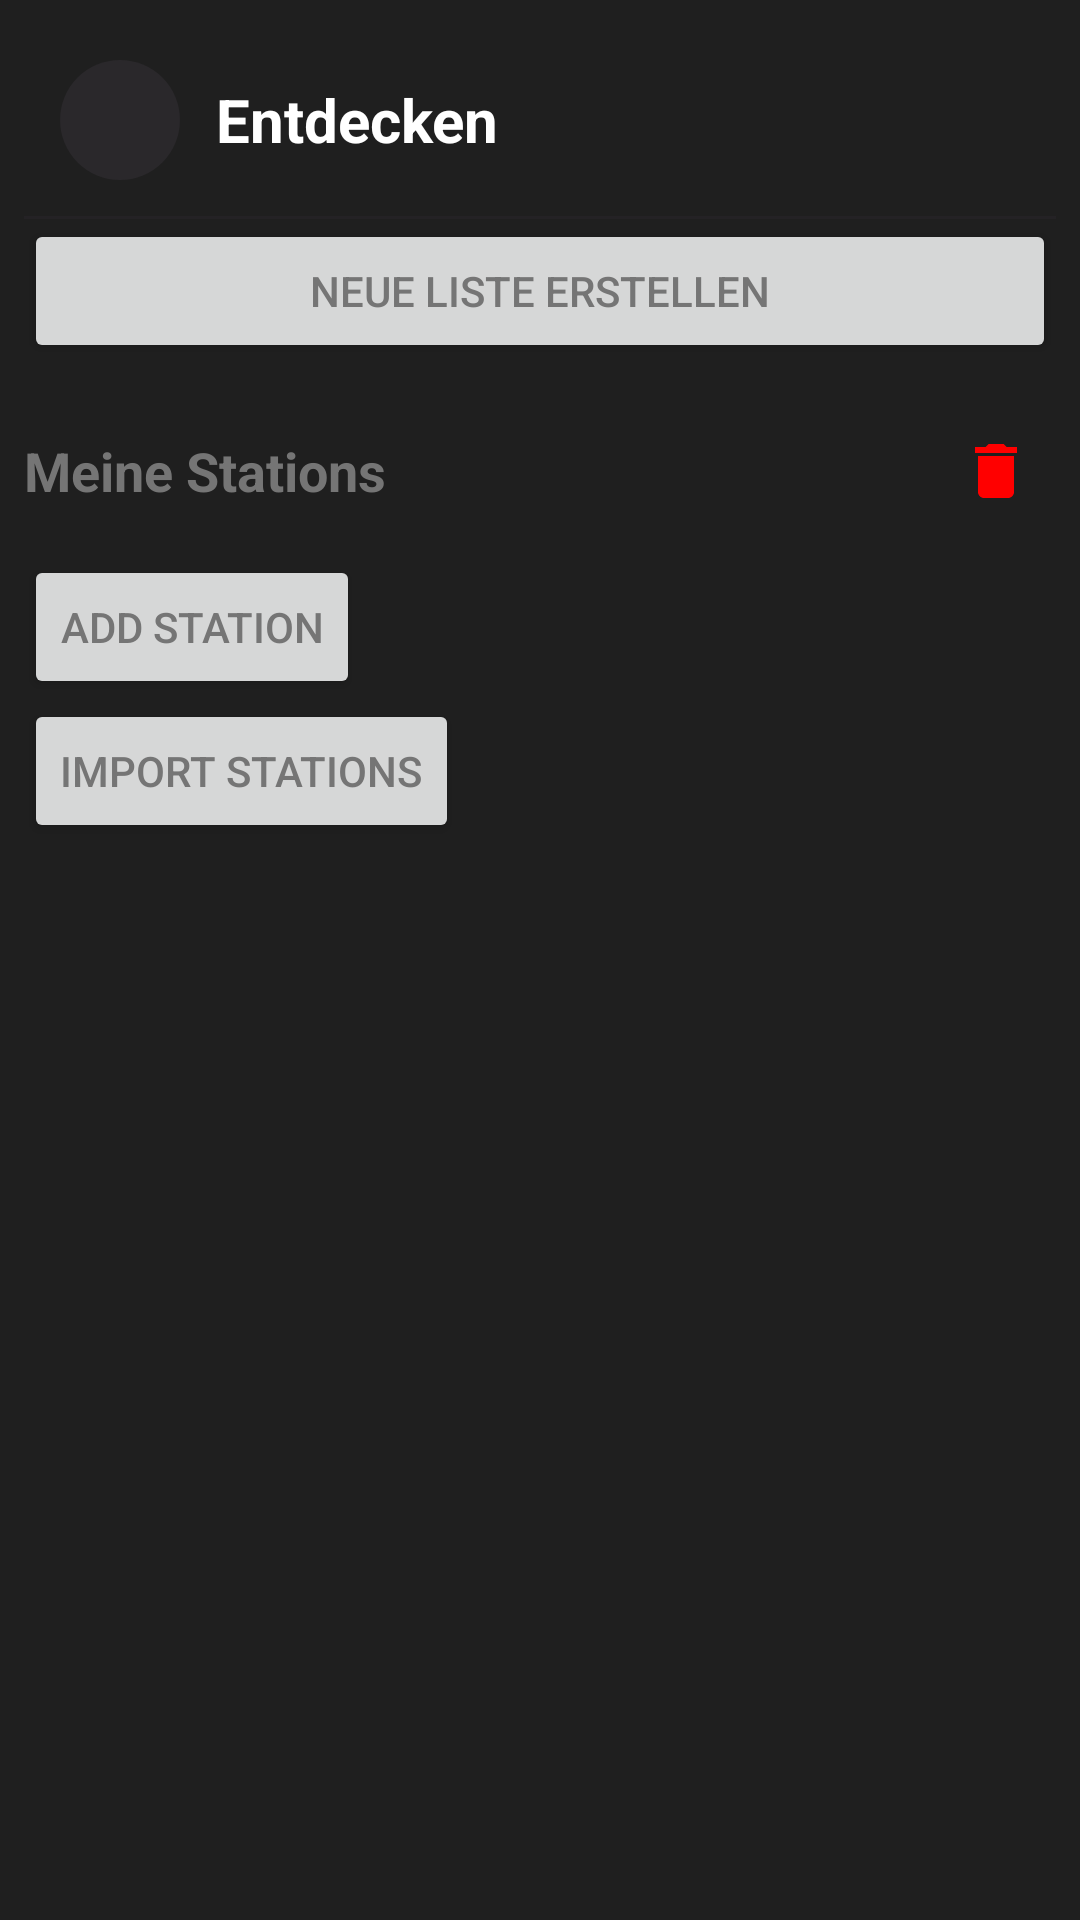

Point at icon controls on the screen. Image size 1080 x 1920, points as [x,y].
Liste löschen: [996,471]
